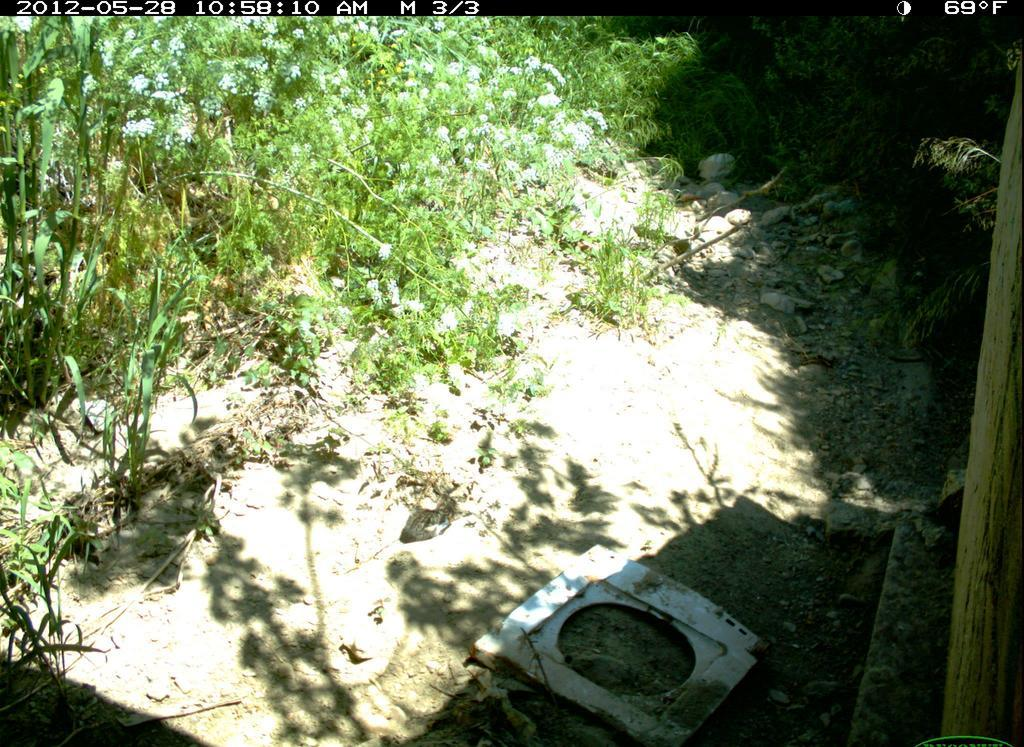cat: (391, 483, 478, 548)
